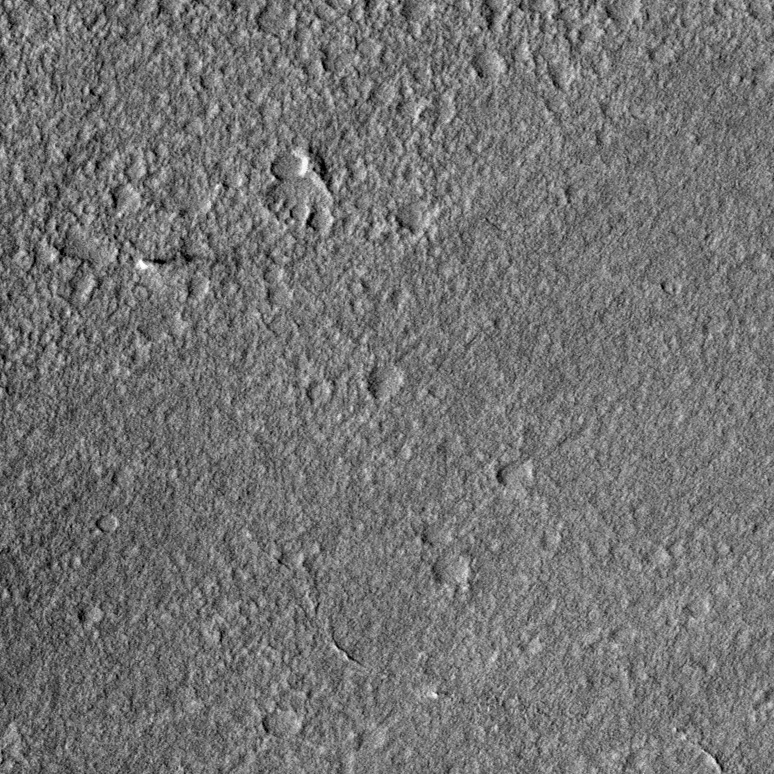dust_devil: (135, 252, 194, 270)
